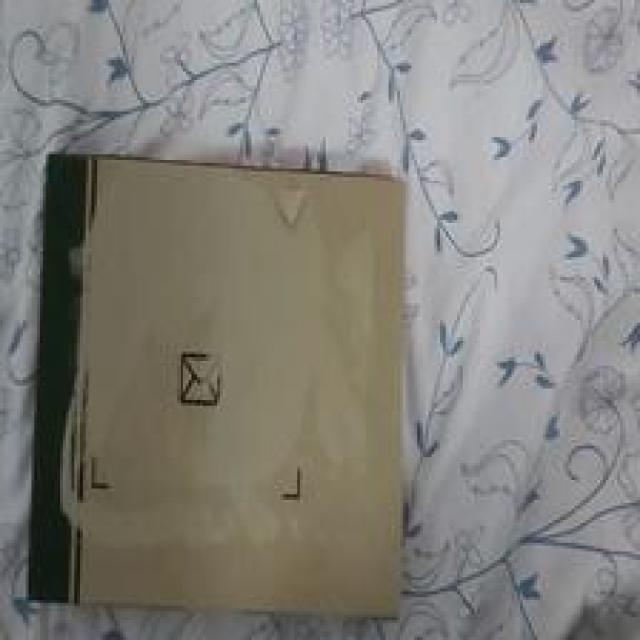PaperCardboard: (38, 148, 416, 627)
